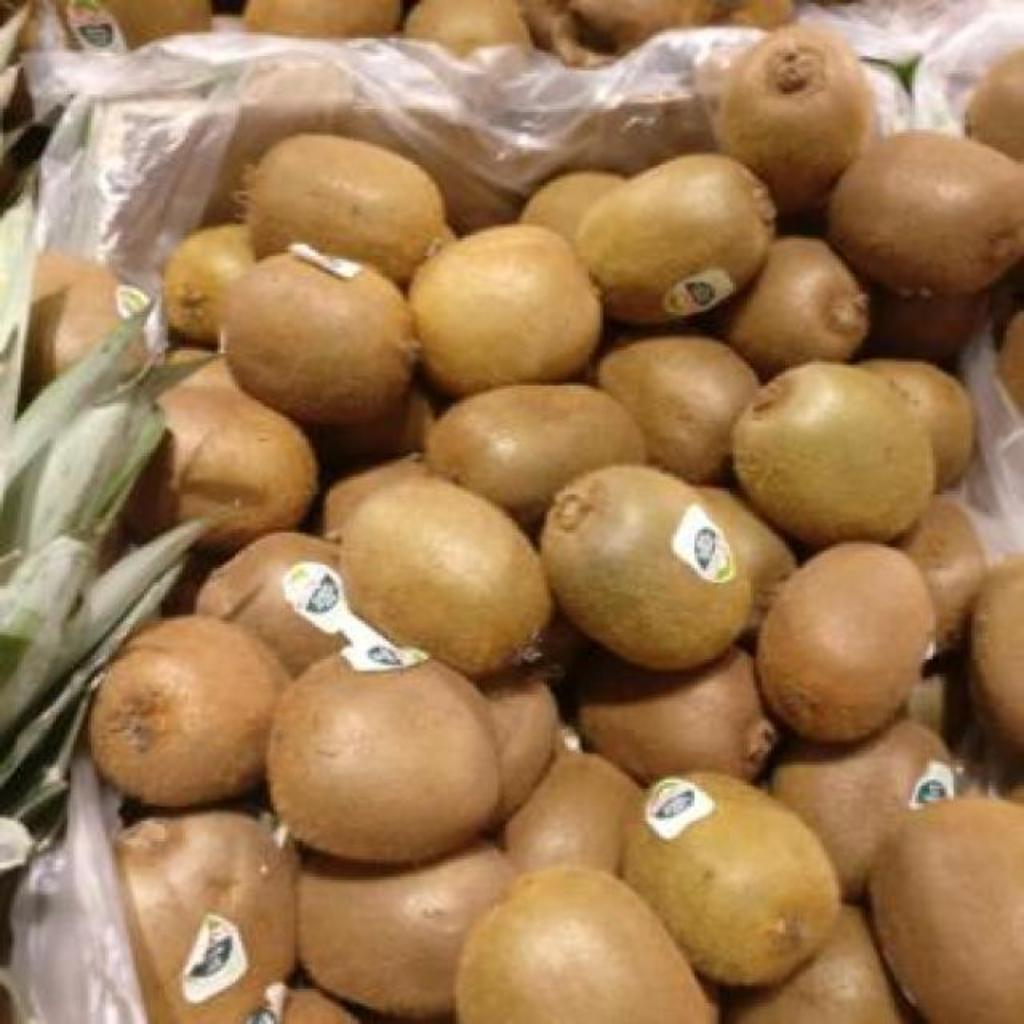kiwi: (272, 656, 500, 863), (622, 772, 840, 985), (542, 466, 752, 669), (342, 476, 552, 677), (459, 870, 718, 1024), (732, 362, 936, 547), (116, 812, 294, 1023), (90, 616, 288, 805), (298, 846, 514, 1017), (128, 358, 318, 549), (756, 542, 936, 742), (228, 244, 418, 423), (872, 804, 1024, 1024), (576, 156, 772, 323), (772, 720, 956, 897), (410, 228, 598, 395), (830, 134, 1024, 295), (246, 134, 450, 283), (424, 384, 646, 519), (716, 26, 872, 213), (576, 648, 776, 783), (598, 336, 760, 483), (196, 532, 344, 675), (730, 906, 908, 1023), (726, 238, 868, 377), (26, 254, 145, 403), (506, 752, 640, 873), (863, 362, 974, 489), (701, 486, 796, 631), (900, 496, 988, 645), (164, 224, 254, 345), (484, 676, 558, 821), (518, 172, 621, 239), (407, 0, 532, 55), (966, 48, 1024, 159), (66, 0, 122, 51)
